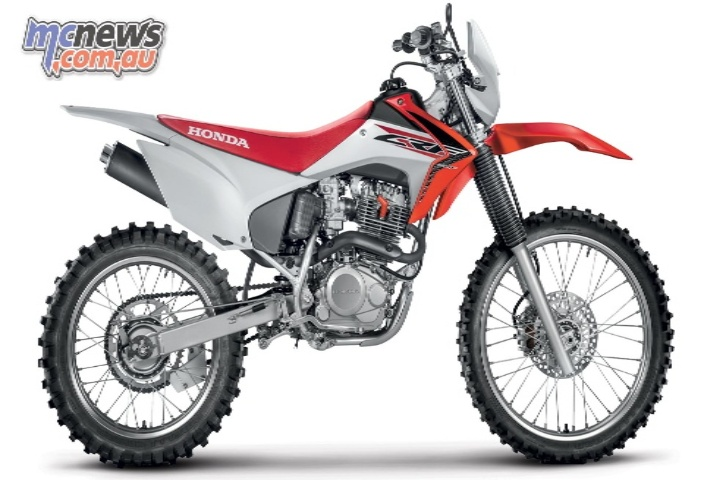motorcycle: (20, 13, 697, 480)
